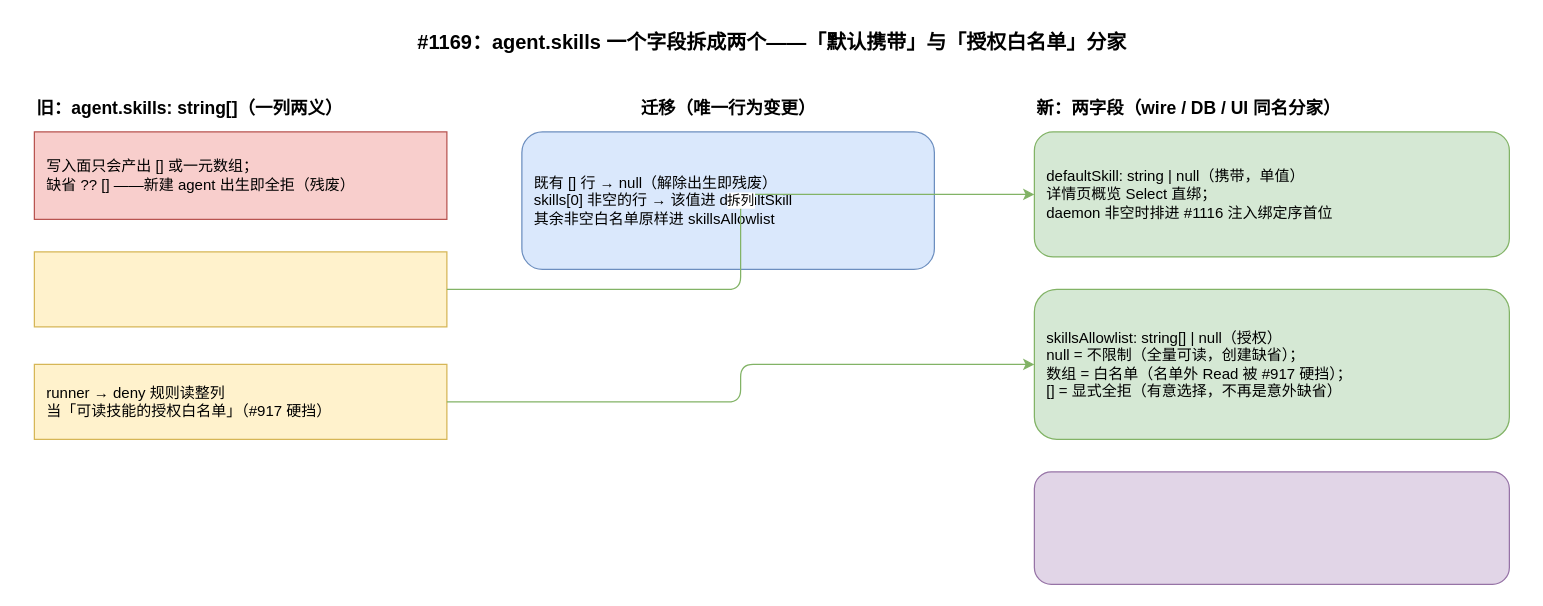
Image size: 1543x606. Some labels were removed from this diagram. The centre of each missing label's shape, as x and y in pixels:
UI 概览读 skills[0] 当「默认携带的单个技能」: the point at 240,289
权限 tab 新段「授权技能」 「不限制」开关（null ↔ []）两态可区分可互转； 限制态逐技能勾选；与概览 Select 互不影响: the point at 1271,527
